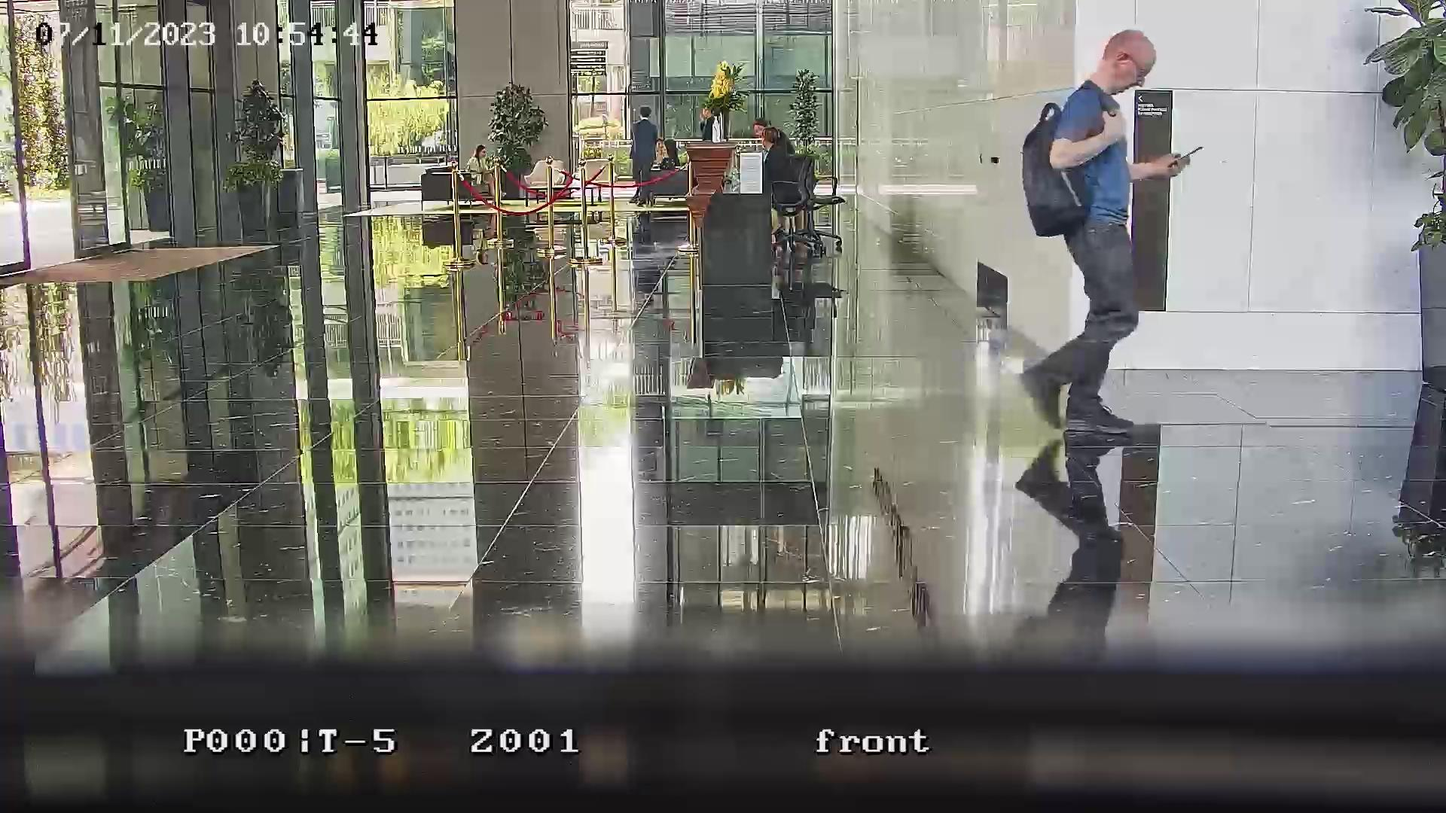person: (1017, 28, 1188, 452), (630, 105, 659, 207), (760, 126, 794, 205), (466, 143, 509, 199), (755, 116, 797, 153)
